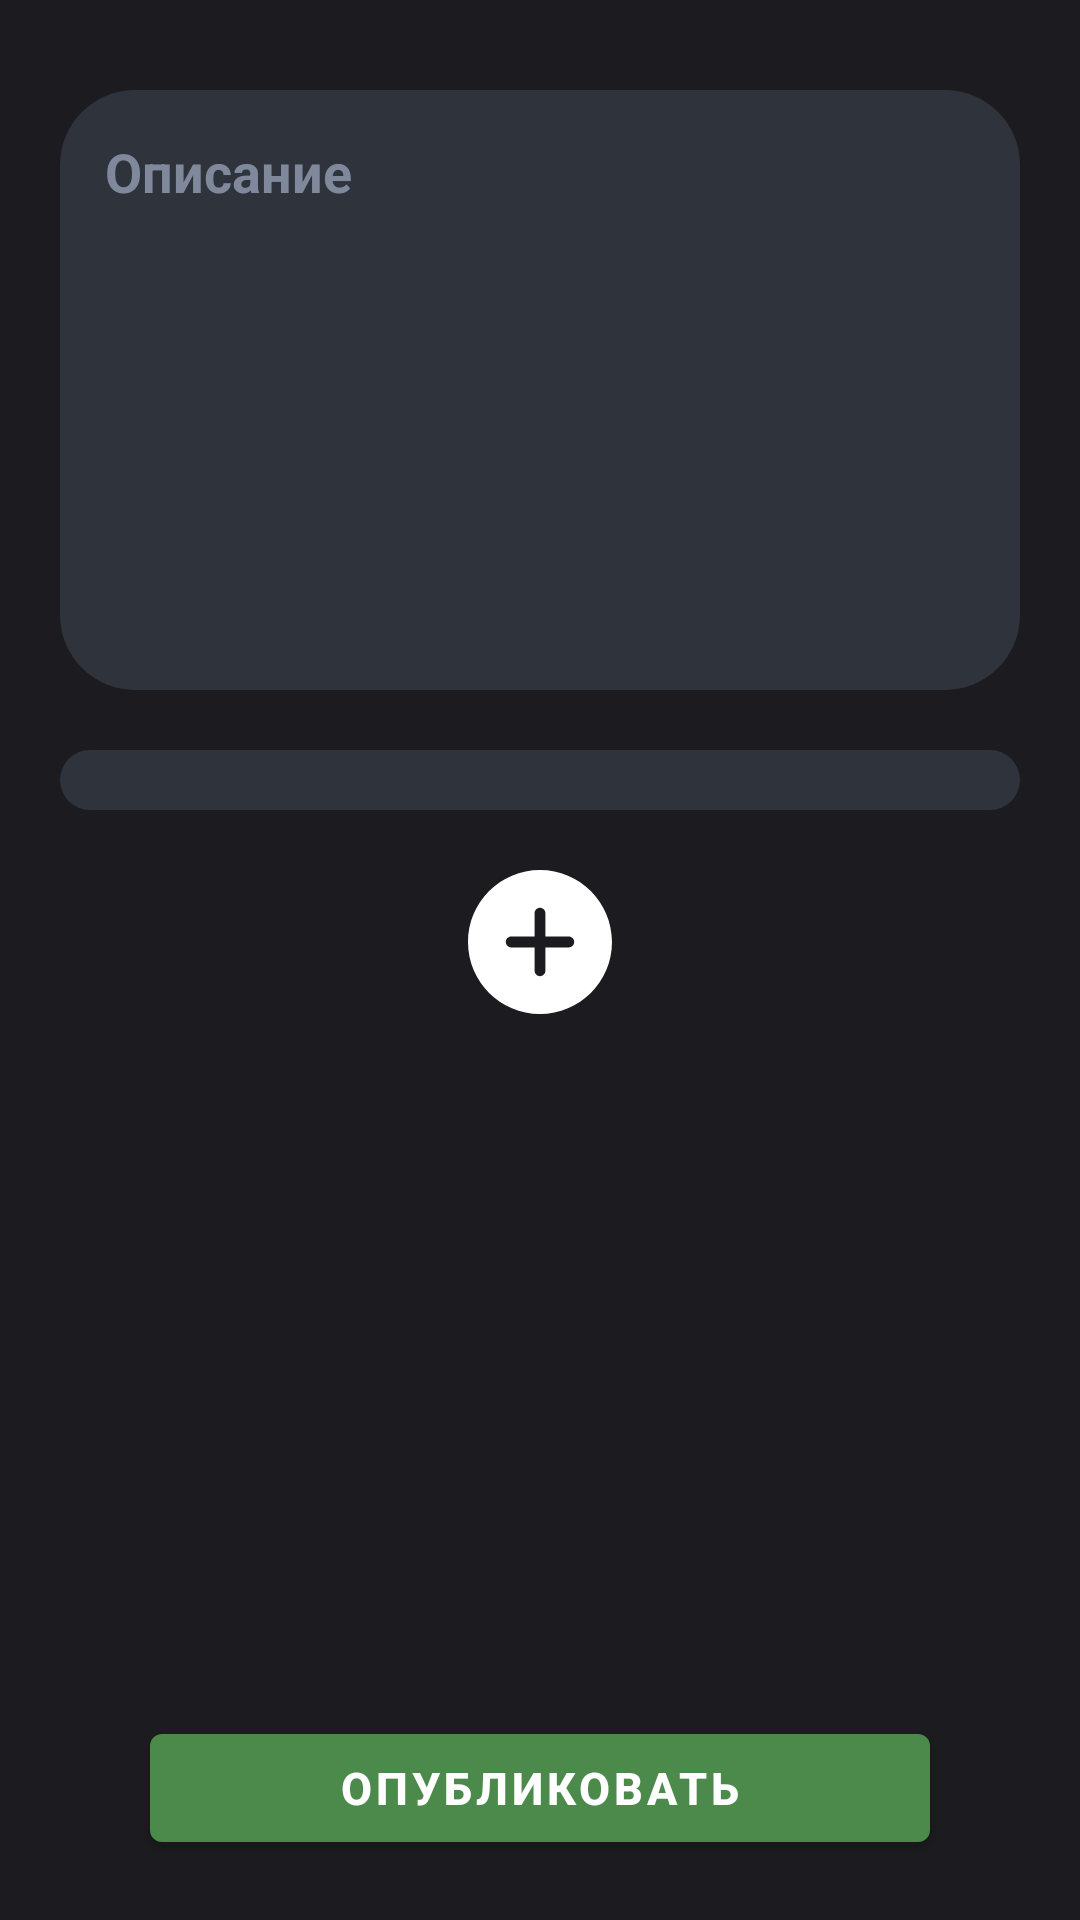

Named icons in this screenshot (1080×1920) and their centers, point (x, y):
addcircle: point (540, 942)
